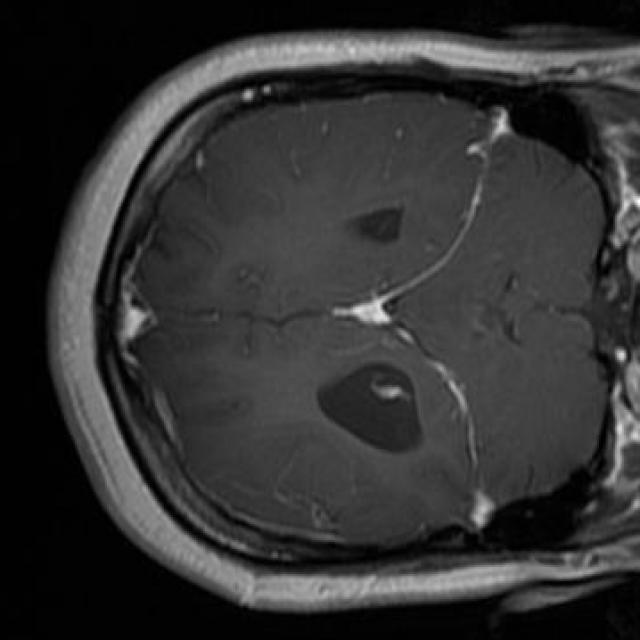glioma: (317, 362, 423, 451)
